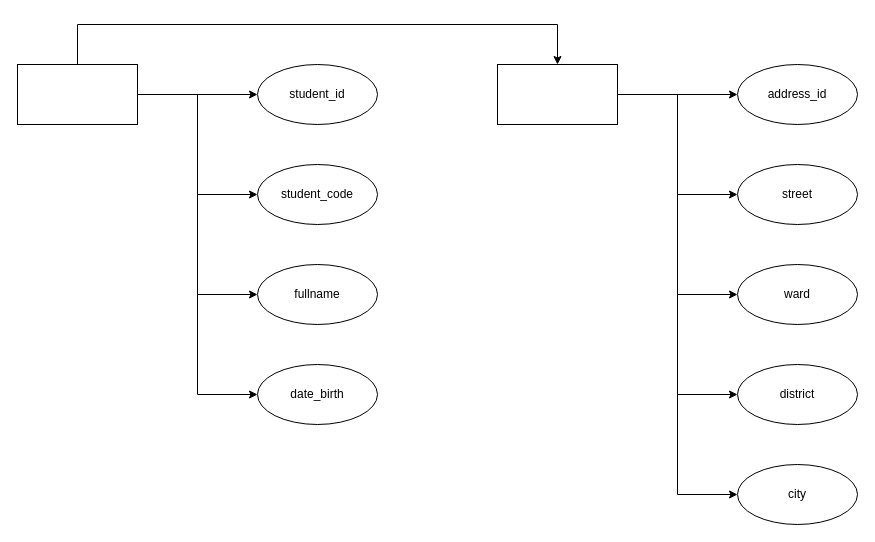
This 875x542 diagram has some shape labels left out. The shapes that lost their labels are listed below. From the top down, each one's centre as x and y in pixels, then its label:
(77,94): students
(557,94): adress
